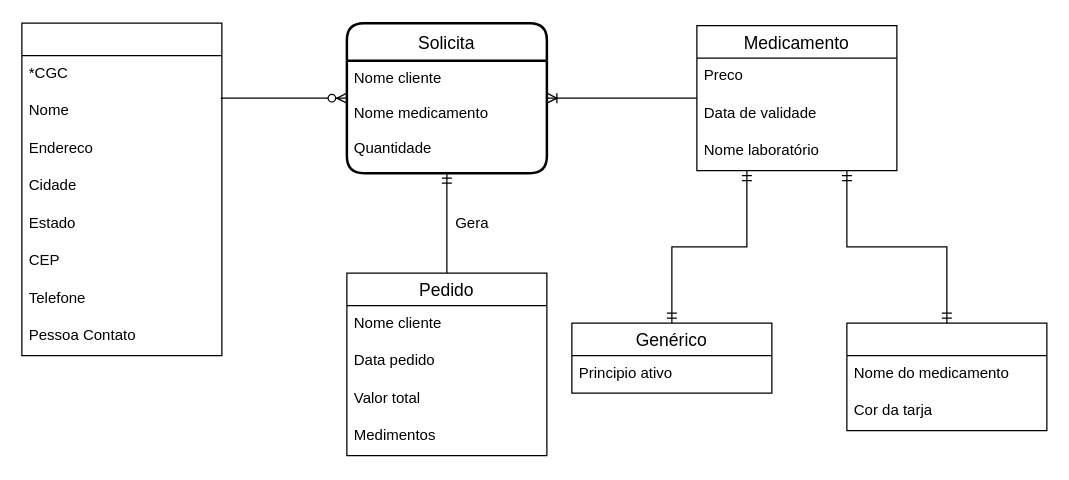
Some shapes in this 1069 by 480 pixel diagram are drawn without their labels. The box of each missing label's shape, as (x1, y1, x2, y2) in pixels:
Cliente: (21, 22, 222, 356)
Marca: (846, 322, 1047, 431)
